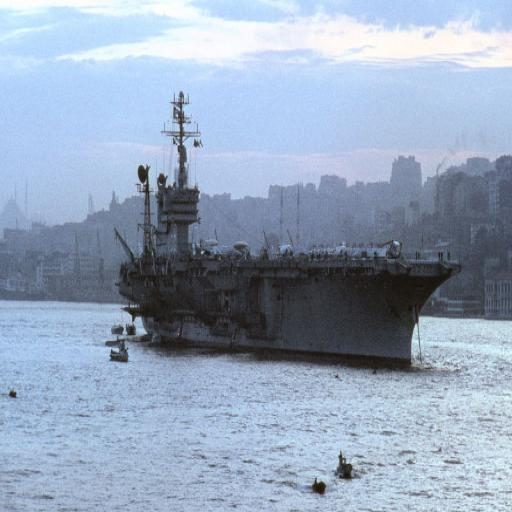Portanaves: (115, 79, 466, 374)
